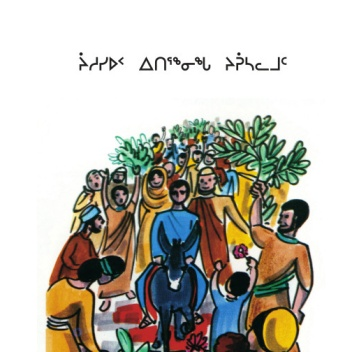inuktitut: (71, 46, 290, 73)
